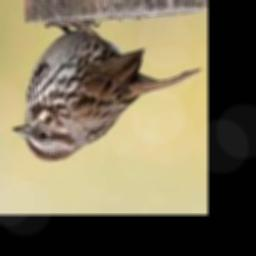Sparrow: (13, 19, 201, 161)
